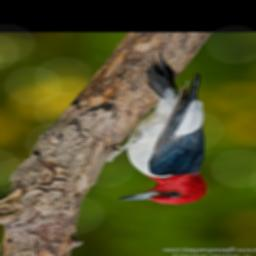Woodpecker: (98, 50, 214, 204)
